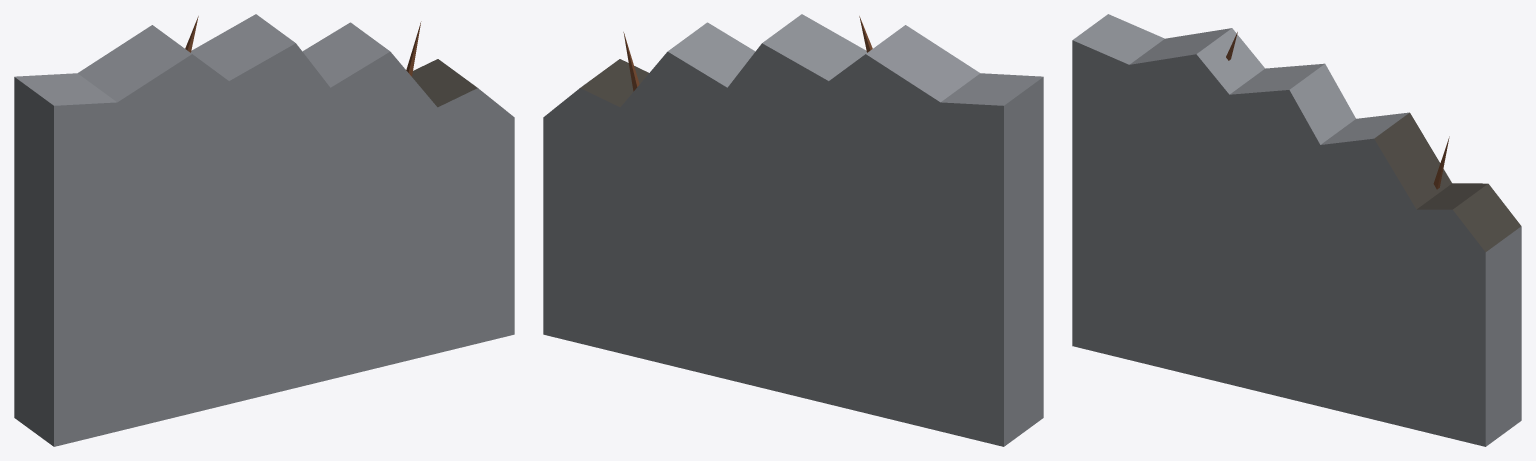
File: SM_Ruin_Wall_A.fbx
The picture shows the model from 3 angles, left to right: view 1: azimuth 30°, elevation 25°; view 2: azimuth 150°, elevation 25°; view 3: azimuth 330°, elevation 25°; orthographic projection. The views are drawn at different scales.
Parts seen in each view (by area): view 1: SM_Ruin_Wall_A; view 2: SM_Ruin_Wall_A; view 3: SM_Ruin_Wall_A.
Part boxes in pixels (x1=…): SM_Ruin_Wall_A: x1=14, y1=14, x2=514, y2=446; SM_Ruin_Wall_A: x1=543, y1=14, x2=1043, y2=446; SM_Ruin_Wall_A: x1=1072, y1=14, x2=1521, y2=446.
Bounding box in the file's own units: 4 × 3.13 × 0.6.
